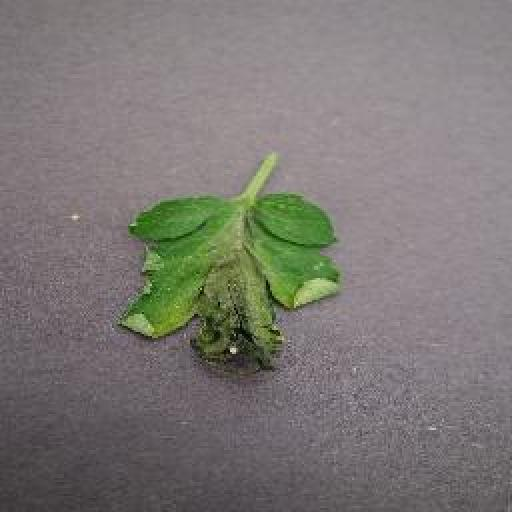disease_tomato: (123, 192, 349, 383)
